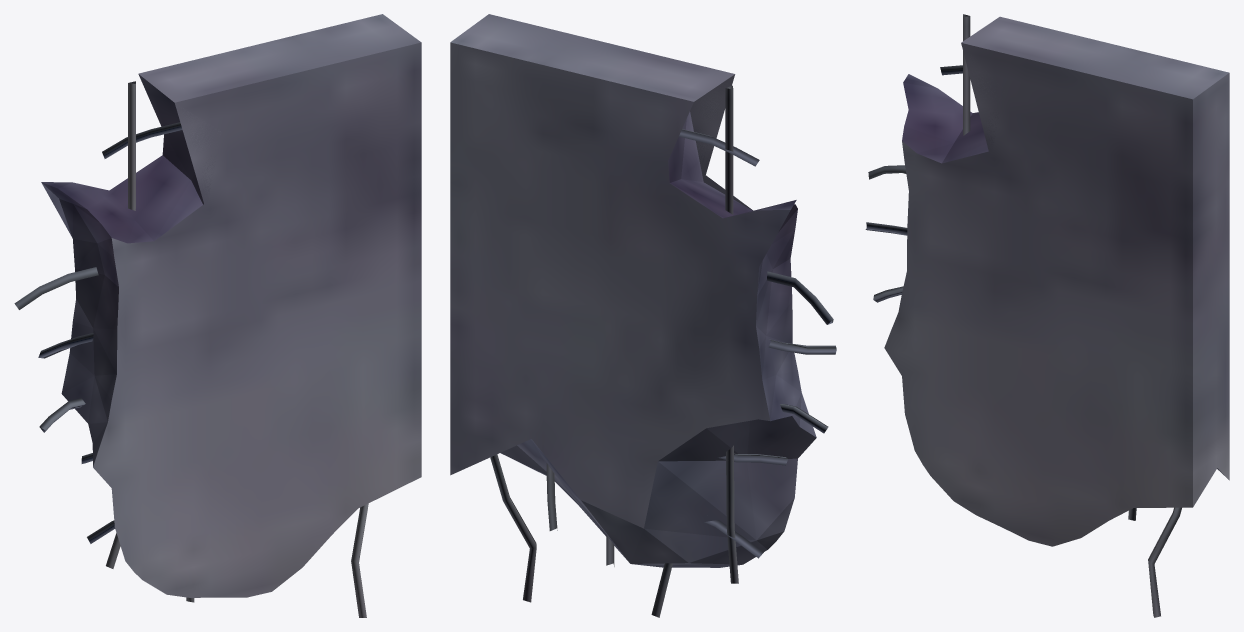
Rendered from concrete-shard.gltf.
The picture shows the model from 3 angles, left to right: view 1: azimuth 30°, elevation 25°; view 2: azimuth 150°, elevation 25°; view 3: azimuth 330°, elevation 25°; orthographic projection. The views are drawn at different scales.
Parts seen in each view (by area): view 1: broken_concrete_wall_003.001; view 2: broken_concrete_wall_003.001; view 3: broken_concrete_wall_003.001.
Boxes of the visible parts, x1,y1,x2,y2 form: broken_concrete_wall_003.001: (14,14,421,617); broken_concrete_wall_003.001: (450,14,836,617); broken_concrete_wall_003.001: (865,14,1229,617).
Bounding box in the file's own units: 0.6065 × 0.89 × 0.1085.
1 material, 1 textured.
